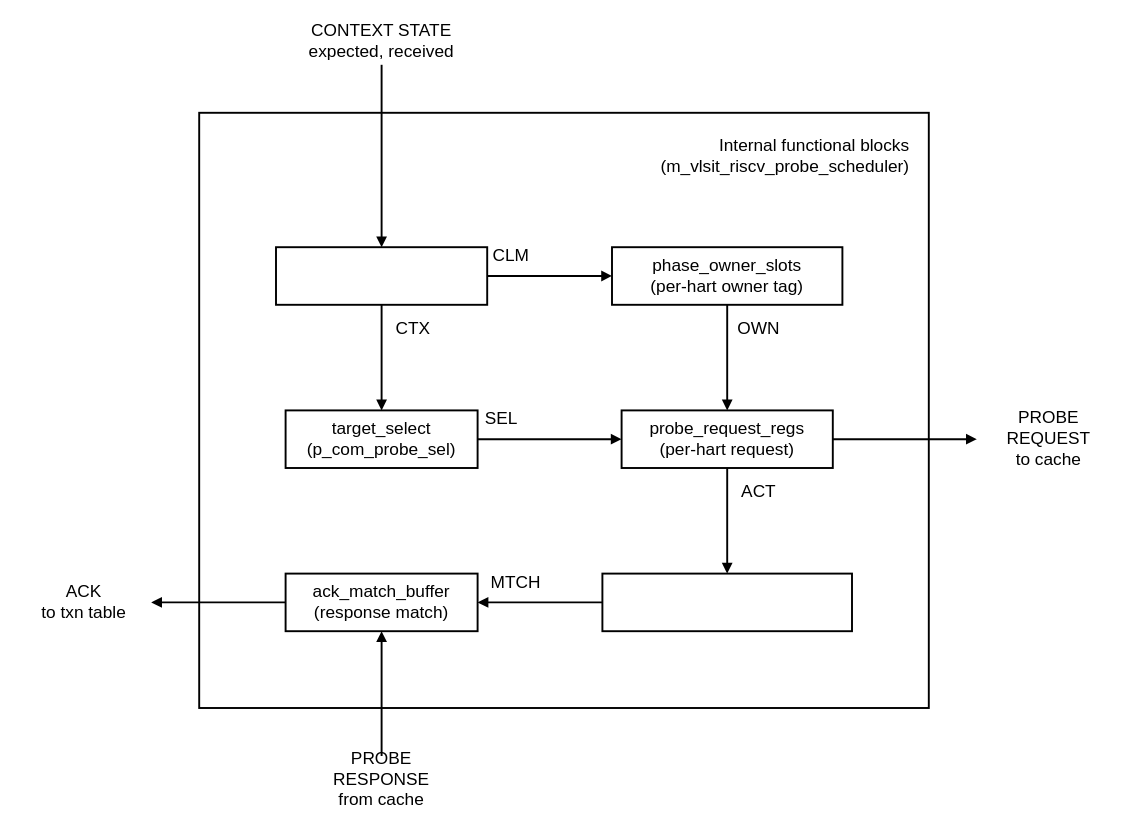
Some shapes in this 1137 by 828 pixel diagram are drawn without their labels. The shapes that lost their labels are listed below. From the top down, each one's box as (x1, y1, x2, y2) in pixels, then its label:
(275, 246, 488, 305): claim_arbiter (p_com_probe_claim)
(601, 572, 852, 632): active_probe_tracker (p_ff_probe_schedule)
